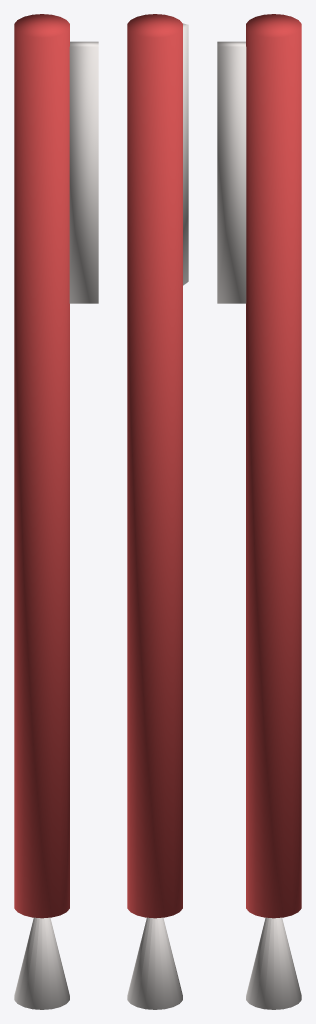
The model's file is pen.glb.
3 renders of one model, left to right at view 1: azimuth 90°, elevation 25°; view 2: azimuth 150°, elevation 25°; view 3: azimuth 270°, elevation 25°, orthographic.
Parts seen in each view (by area): view 1: shaft, clip, tip; view 2: shaft, tip, clip; view 3: shaft, clip, tip.
Boxes of the visible parts, <box> form: shaft: <box>14,14,69,918</box>; clip: <box>69,41,98,303</box>; tip: <box>14,917,69,1009</box>; shaft: <box>127,14,182,918</box>; tip: <box>127,917,182,1009</box>; clip: <box>183,23,188,285</box>; shaft: <box>246,14,301,918</box>; clip: <box>217,41,246,303</box>; tip: <box>246,917,301,1009</box>.
Bounding box in the file's own units: 0.07 × 1.33 × 0.1045.
